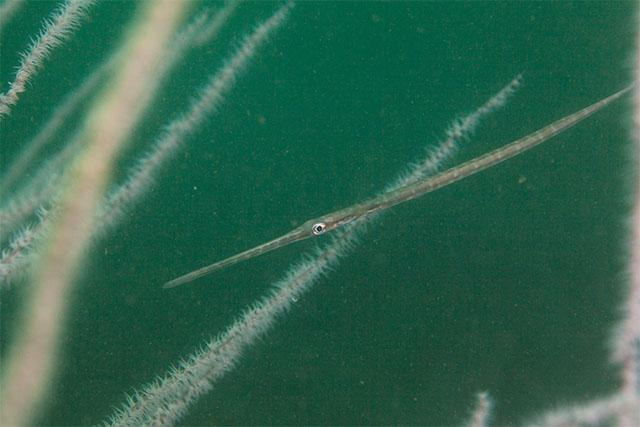Fistularia commersonii: (146, 100, 640, 314)
